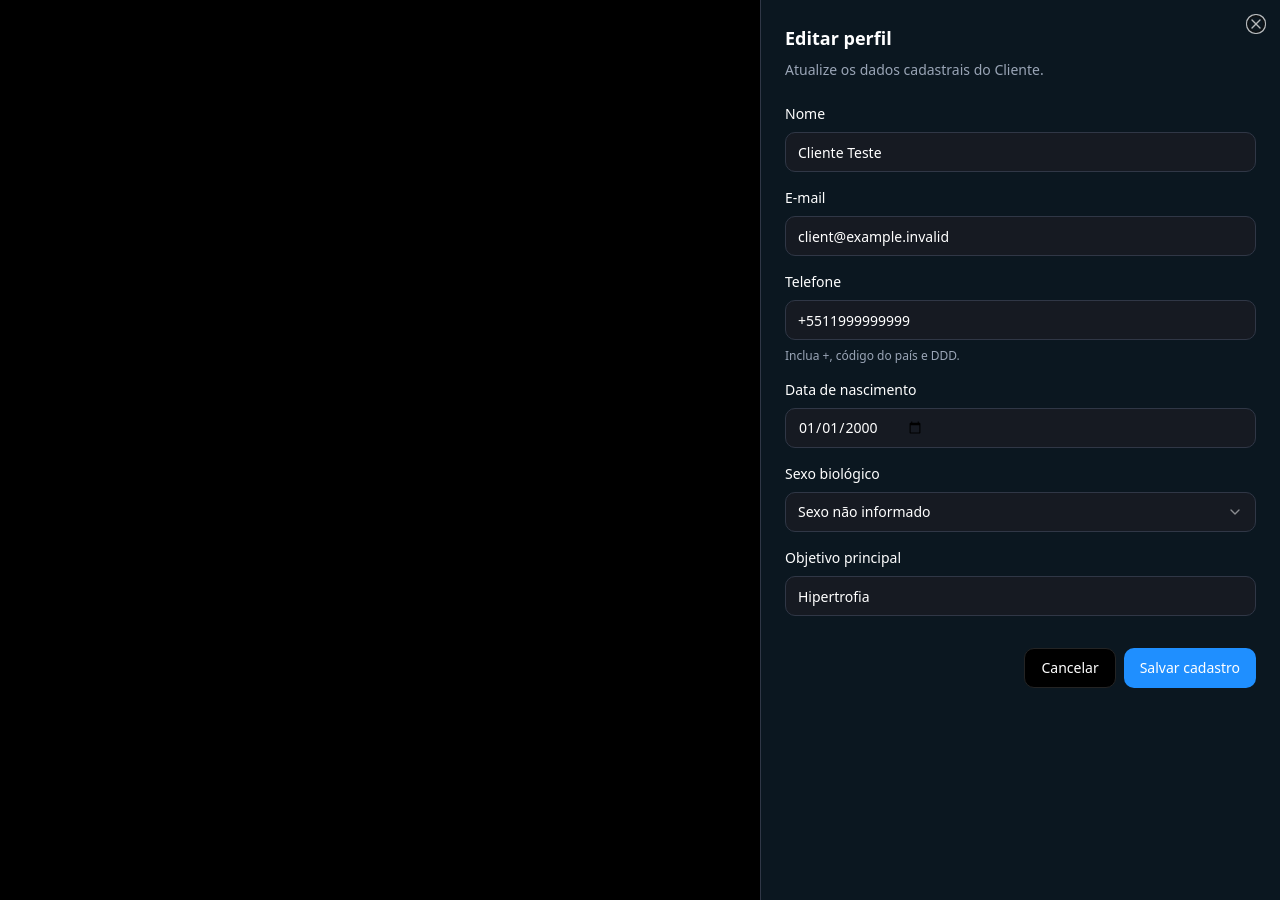
Test: profile drawer › loads a full editable profile, keeps email readonly, and stays open on save failure
Replace the text in the field labelled "Nome" with "Novo Nome" at [1020, 152], box [785,132,1256,172]
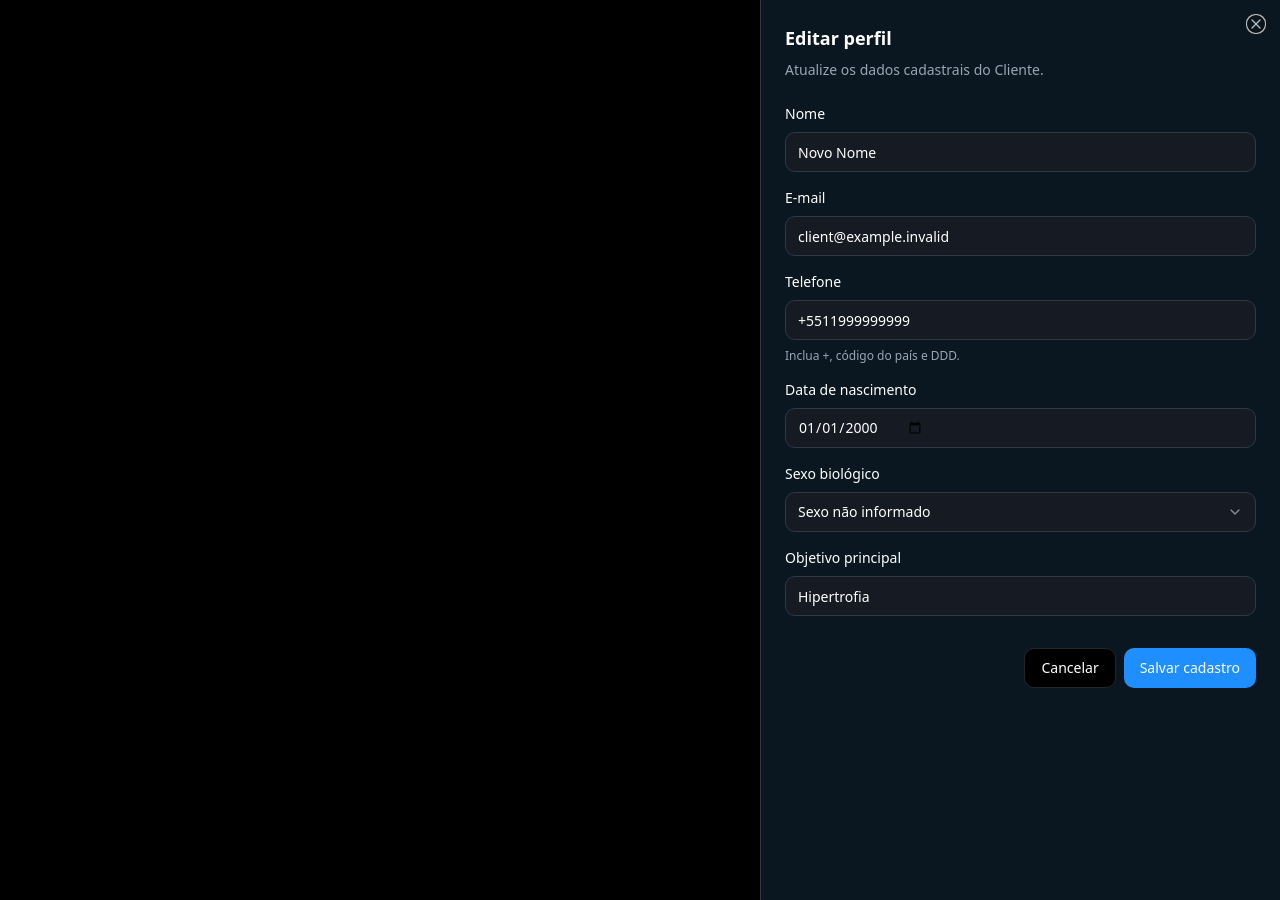
Click the button "Salvar cadastro" at [1190, 668], box [1124,648,1256,688]
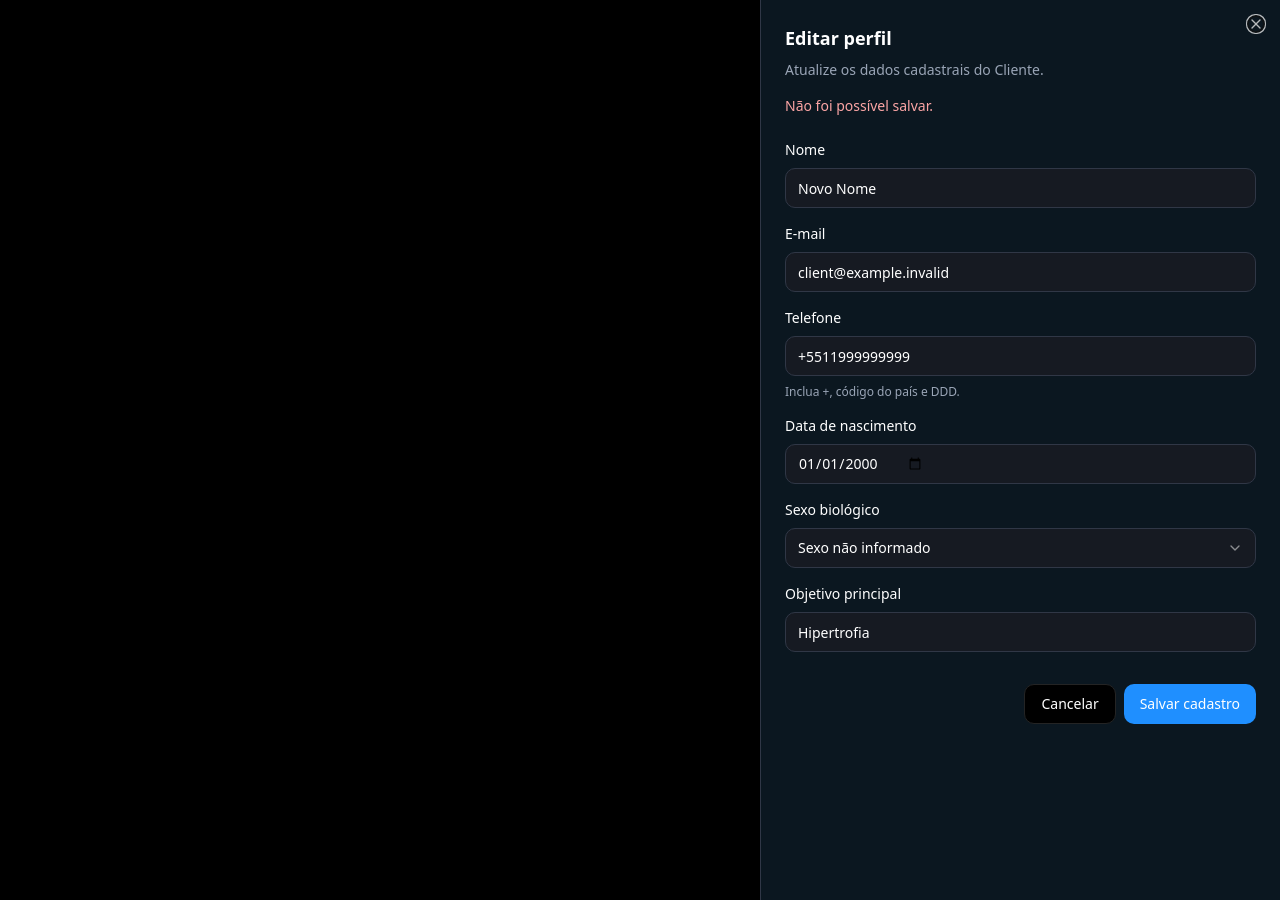
Check: the message "Não foi possível salvar." is shown, box [785,96,933,115]
